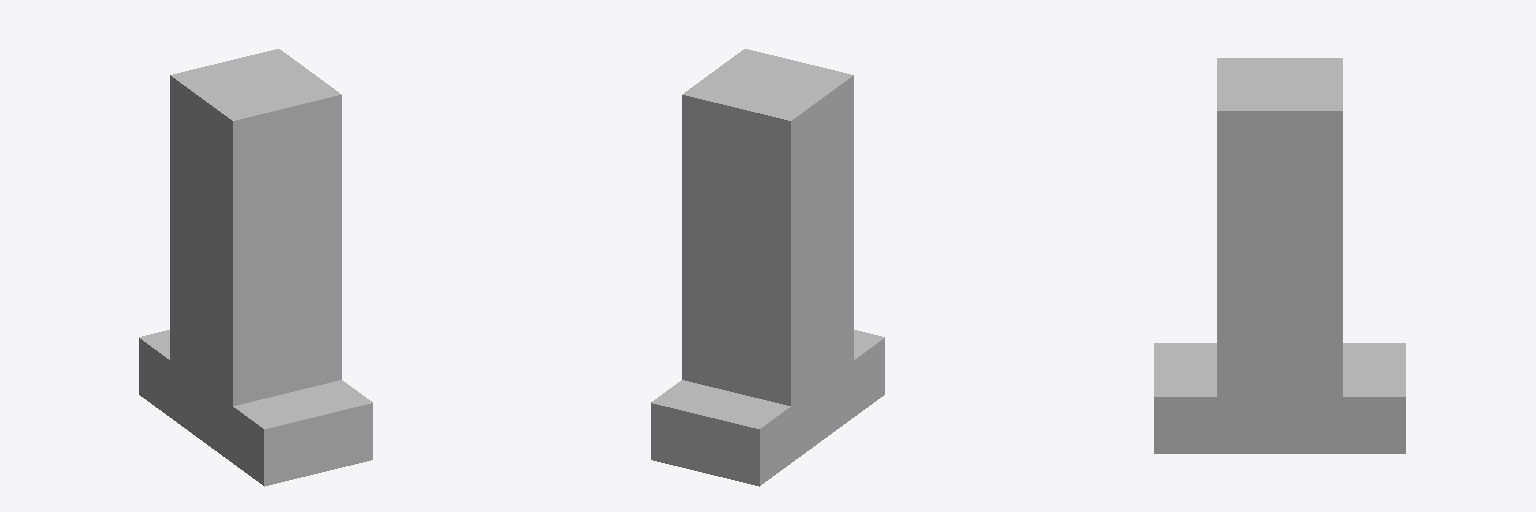
File: TestObject.obj
The picture shows the model from 3 angles: view 1: azimuth 30°, elevation 25°; view 2: azimuth 150°, elevation 25°; view 3: azimuth 270°, elevation 25°; orthographic projection.
Visible parts, largest first — view 1: Cube; view 2: Cube; view 3: Cube.
Part boxes in pixels (x1,y1,x2,y2): Cube: (139,49,372,486); Cube: (651,49,884,486); Cube: (1154,58,1405,453).
Bounding box in the file's own units: 2 × 6 × 4.